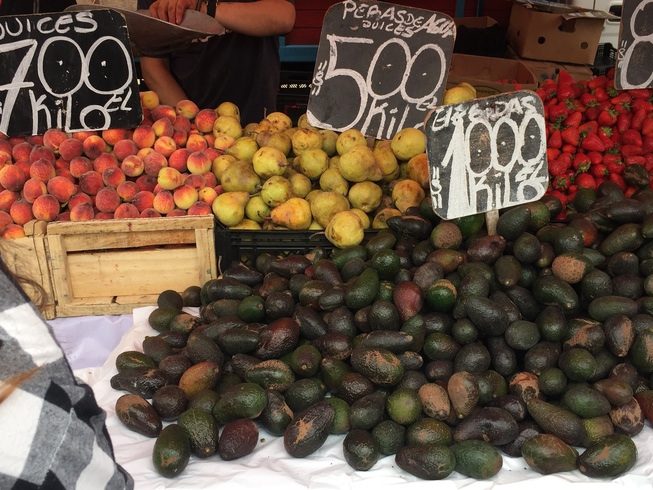precio: (317, 1, 456, 157), (1, 7, 146, 136), (420, 98, 559, 214)
